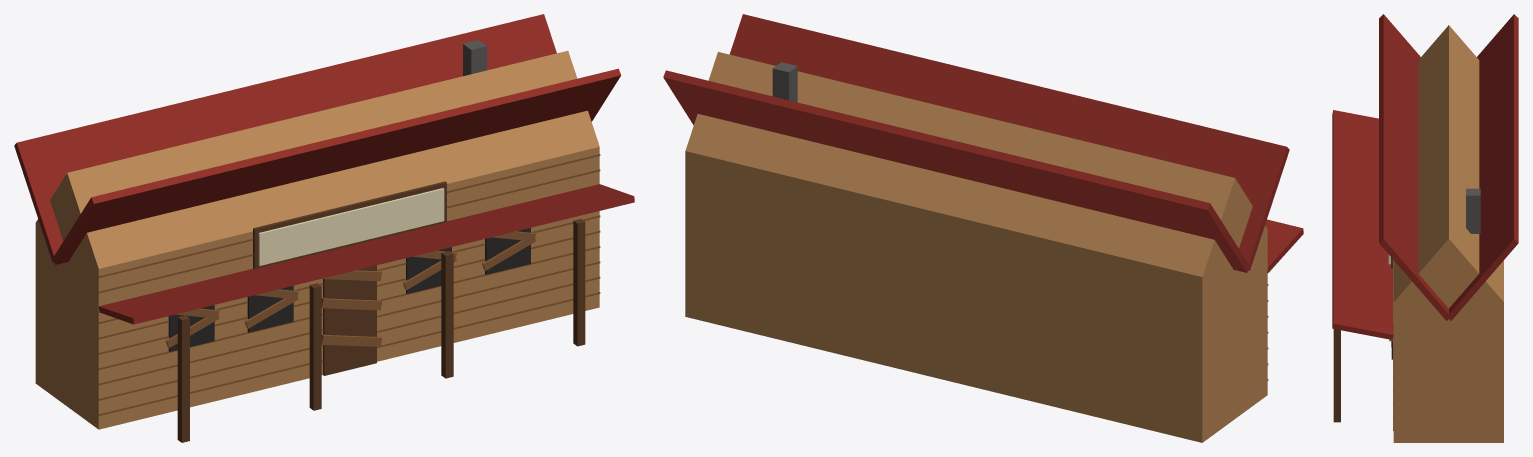
Rendered from LobbyDepot.fbx.
3 renders of one model, left to right at view 1: azimuth 30°, elevation 25°; view 2: azimuth 150°, elevation 25°; view 3: azimuth 270°, elevation 25°, orthographic. The views are drawn at different scales.
Visible parts, largest first — view 1: Wall, Roof, Detail; view 2: Wall, Roof, Detail; view 3: Wall, Roof, Detail.
Part boxes in pixels (<box>): Wall: <box>35,50,599,429</box>; Roof: <box>14,14,634,324</box>; Detail: <box>98,40,600,442</box>; Wall: <box>685,52,1267,442</box>; Roof: <box>663,14,1303,272</box>; Detail: <box>772,62,1268,380</box>; Wall: <box>1393,25,1503,442</box>; Roof: <box>1332,14,1518,339</box>; Detail: <box>1333,188,1480,430</box>.
Size of the model in its own units: 40 by 18 by 14.
